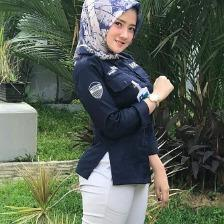Non Syar-i: (72, 0, 141, 62)
